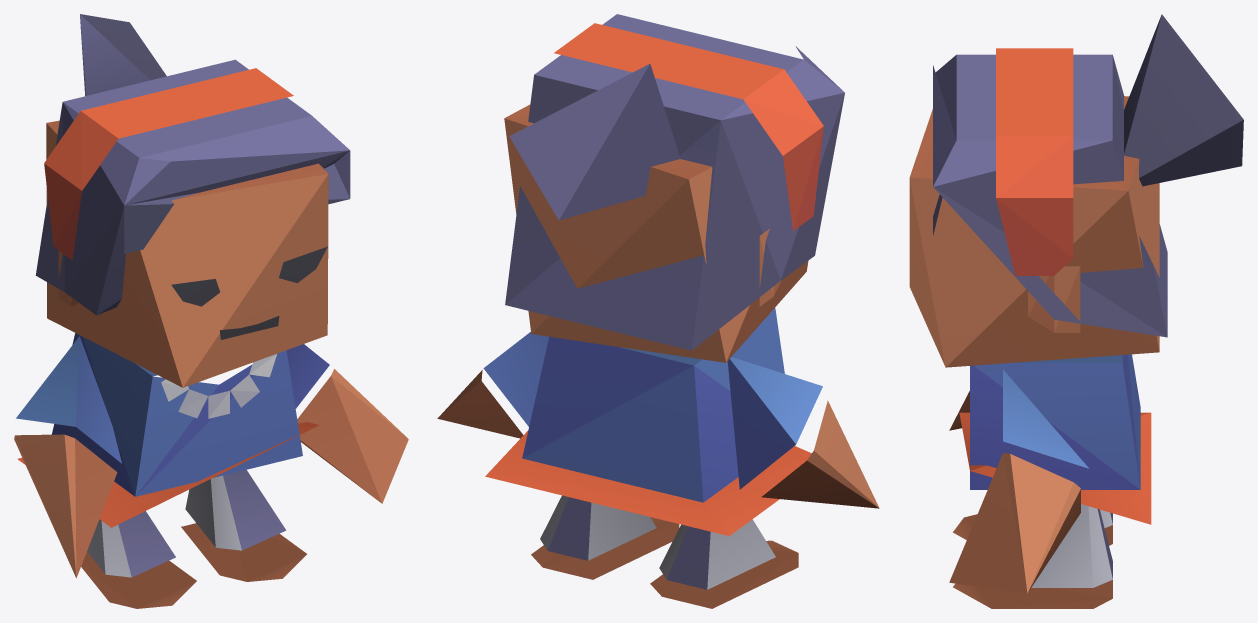
The model's file is person-female-c.glb.
3 views of the same model, side by side, from view 1: azimuth 30°, elevation 25°; view 2: azimuth 150°, elevation 25°; view 3: azimuth 270°, elevation 25° (orthographic). The views are drawn at different scales.
Visible parts, largest first — view 1: character-female-c; view 2: character-female-c; view 3: character-female-c.
Boxes of the visible parts, bbox=[...] form: character-female-c: bbox=[14, 14, 408, 608]; character-female-c: bbox=[437, 14, 879, 608]; character-female-c: bbox=[909, 14, 1243, 608].
Bounding box in the file's own units: 1.42 × 1.88 × 1.1.
